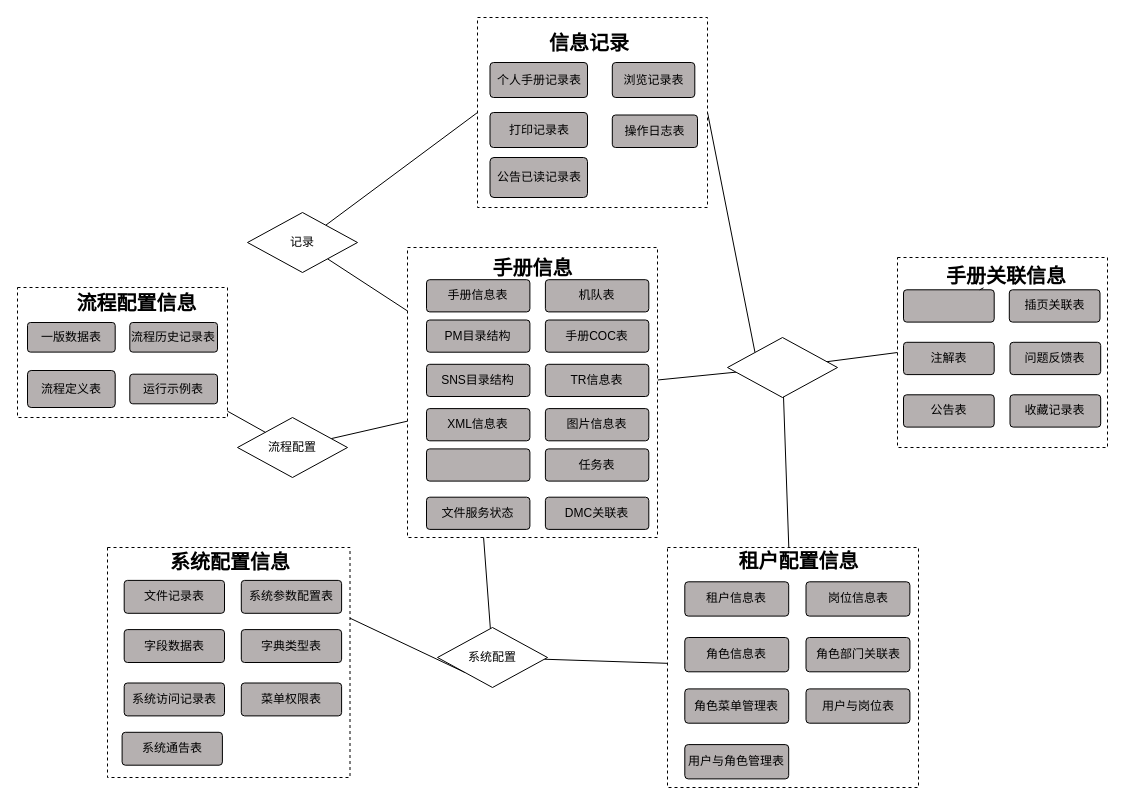
This 1125x805 diagram has some shape labels left out. Here are the shapes that lost their labels. From the top down, the centre of each, then its label:
At point (948, 305): "插页信息表".
At point (782, 367): "关联".
At point (478, 464): "手册索引".
